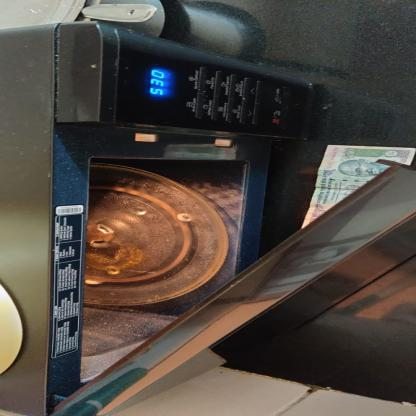Old100Front: (301, 144, 415, 228)
